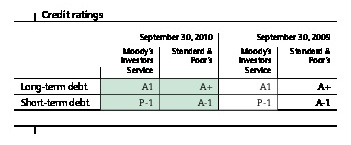table: (0, 0, 351, 145)
